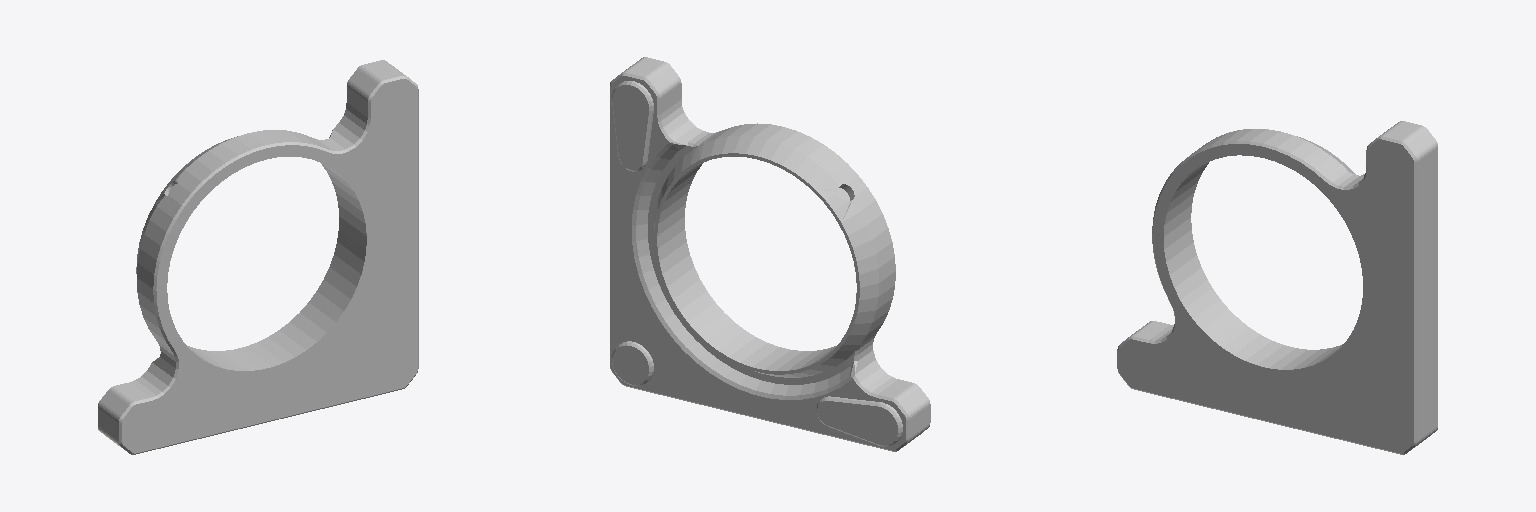
File: KS1RS_Lens_Base.obj
The picture shows the model from 3 angles: view 1: azimuth 30°, elevation 25°; view 2: azimuth 150°, elevation 25°; view 3: azimuth 330°, elevation 25°; orthographic projection.
Visible parts, largest first — view 1: polySurface1304 group161; view 2: polySurface1304 group161; view 3: polySurface1304 group161.
Part boxes in pixels (x1,y1,x2,y2): polySurface1304 group161: (98,60,418,454); polySurface1304 group161: (610,57,930,451); polySurface1304 group161: (1117,121,1437,454).
Bounding box in the file's own units: 74.93 × 74.93 × 11.94.